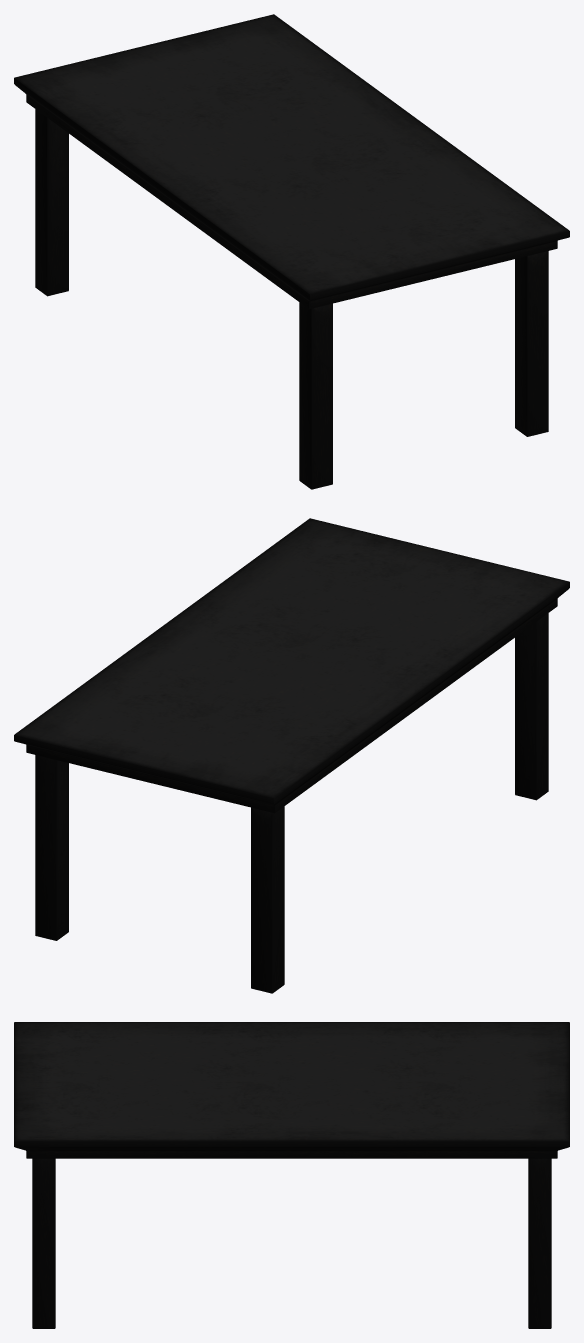
Rendered from LargeTable.fbx.
3 views of the same model, one above another, from view 1: azimuth 30°, elevation 25°; view 2: azimuth 150°, elevation 25°; view 3: azimuth 270°, elevation 25° (orthographic). The views are drawn at different scales.
Parts seen in each view (by area): view 1: Large Table; view 2: Large Table; view 3: Large Table.
Part boxes in pixels (x1,y1,x2,y2): Large Table: (14, 14, 569, 489); Large Table: (14, 518, 569, 993); Large Table: (14, 1022, 569, 1328).
Bounding box in the file's own units: 414 × 313 × 816.
